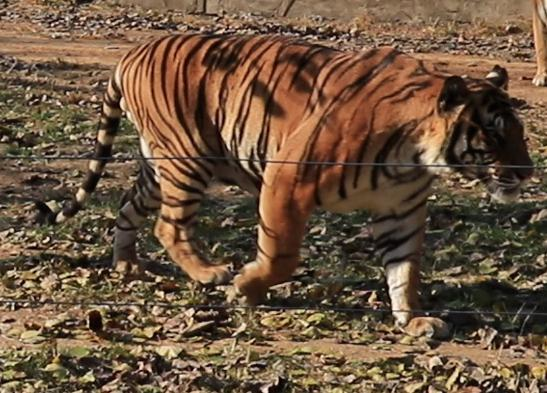tiger: (77, 34, 532, 327)
